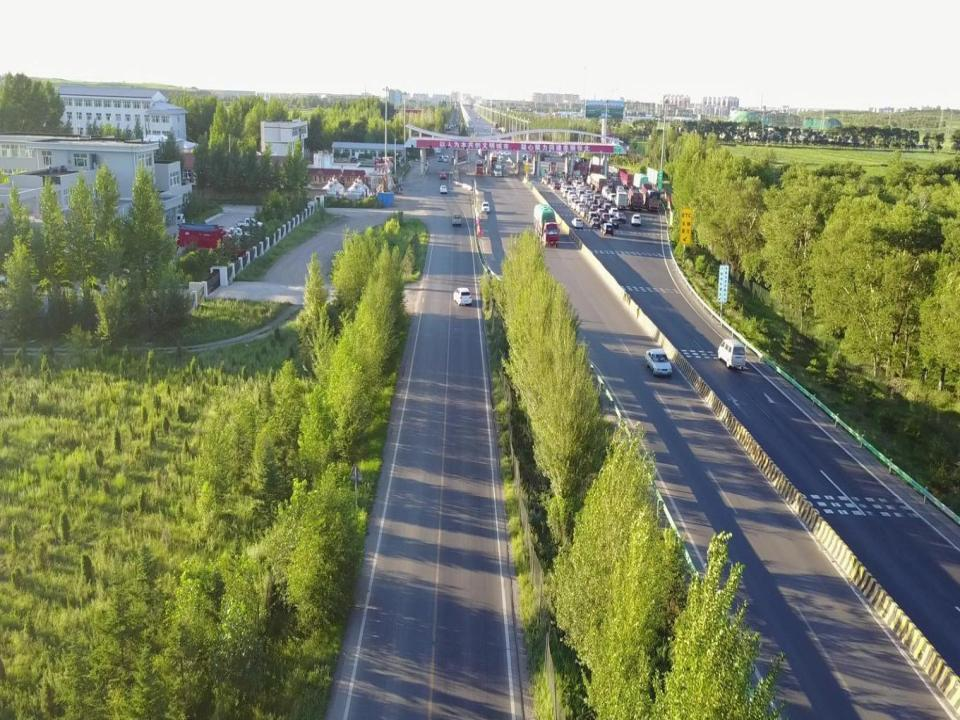car: (645, 348, 672, 376), (454, 287, 472, 306), (237, 218, 263, 230), (227, 228, 251, 241), (600, 223, 612, 236), (571, 216, 582, 228), (607, 217, 618, 229), (576, 202, 586, 215), (584, 196, 594, 209), (614, 213, 626, 223), (452, 214, 462, 225), (590, 217, 600, 228), (587, 211, 597, 222), (596, 209, 606, 220), (590, 204, 600, 215), (481, 201, 490, 212), (603, 202, 611, 214), (580, 208, 590, 217), (571, 200, 581, 209), (610, 207, 618, 218), (439, 184, 448, 193), (601, 214, 610, 223), (632, 215, 640, 225), (606, 179, 614, 189), (588, 200, 596, 209), (597, 199, 605, 207), (593, 195, 600, 204), (608, 194, 616, 201), (491, 150, 502, 155), (501, 151, 511, 156), (437, 155, 444, 162), (526, 157, 532, 164), (604, 192, 611, 198), (443, 155, 449, 161), (498, 153, 504, 159), (441, 172, 446, 179), (522, 154, 527, 160)
truck: (178, 221, 239, 254), (534, 204, 560, 248), (640, 183, 660, 211), (586, 171, 608, 192), (629, 169, 648, 191), (616, 168, 635, 188), (628, 187, 642, 210), (614, 191, 628, 209), (451, 148, 467, 162), (488, 152, 498, 170), (475, 160, 484, 174), (478, 148, 486, 157)
van: (717, 338, 745, 367), (163, 214, 186, 226), (494, 164, 502, 177)
